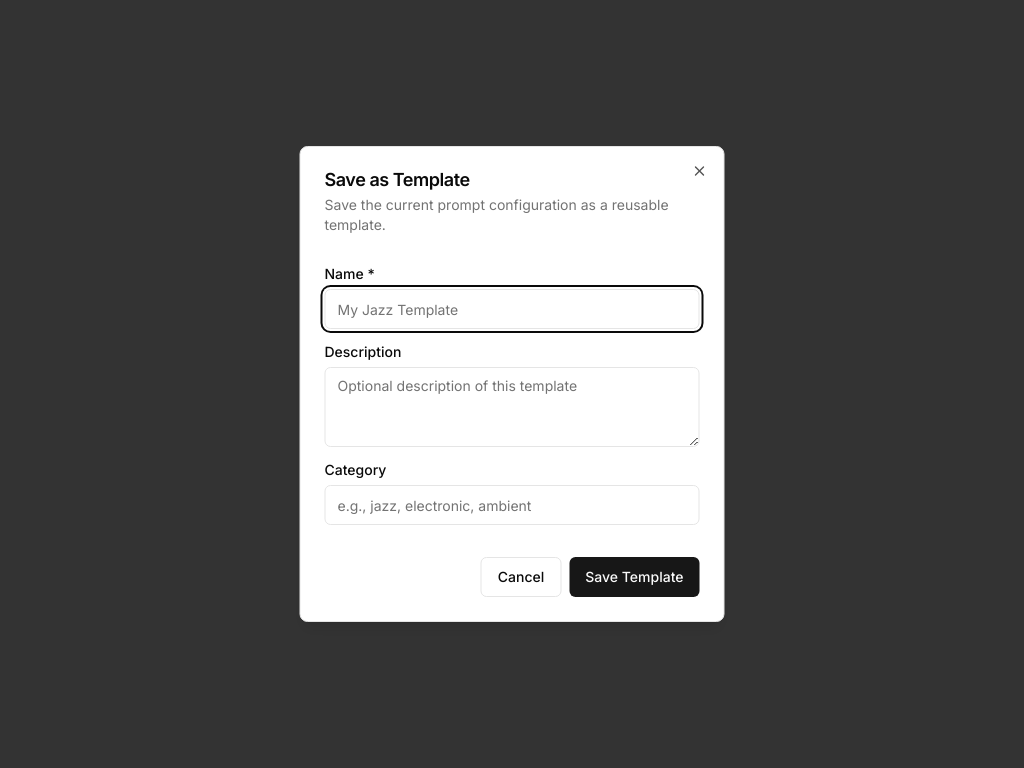
Scenario: SaveTemplateDialog › shows error on api failure
Type "My Template" into the field labelled "Name *" at (512, 309), box [324,289,700,329]
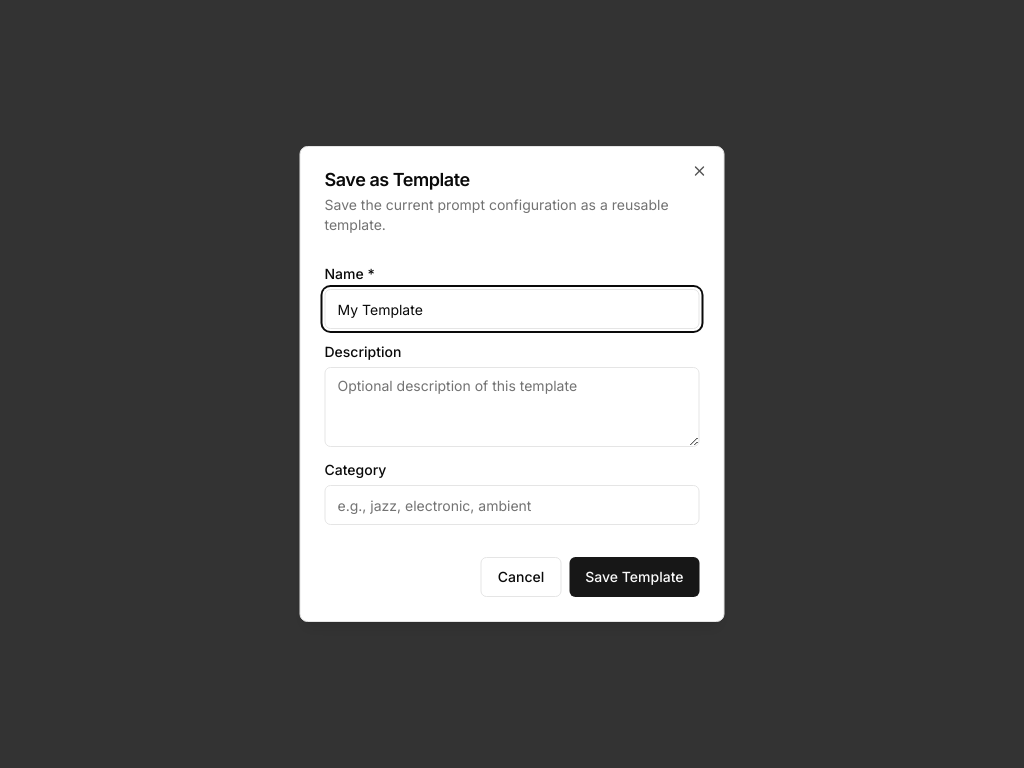
Click the button "Save Template" at (634, 577), box [569,557,700,597]
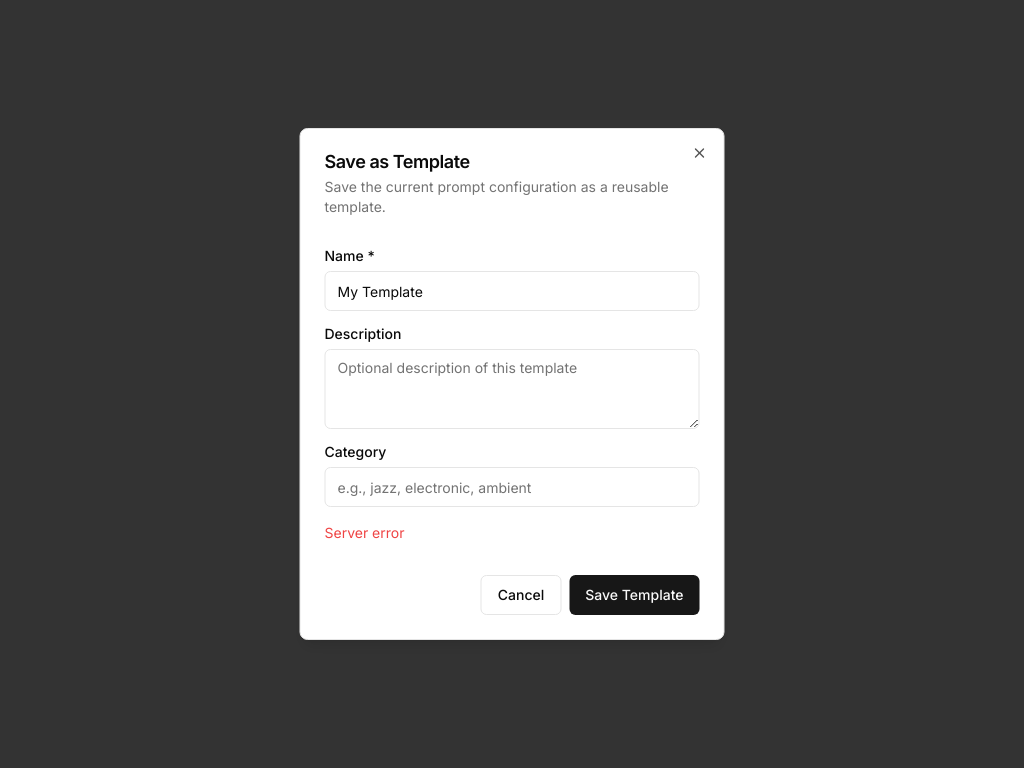
Expected: the text "Server error" is shown, [324,524,404,541]
